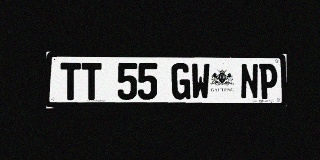5: (118, 63, 137, 100), (138, 63, 157, 100)
G: (171, 63, 190, 100)
N: (240, 63, 259, 99)
P: (259, 64, 277, 99)
T: (60, 62, 81, 100), (81, 63, 102, 100)
W: (191, 63, 210, 99)
